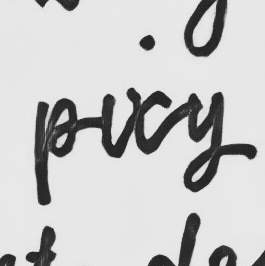i: (97, 89, 121, 159)
p: (32, 95, 82, 207)
x: (124, 84, 174, 158)
y: (178, 89, 227, 193)
